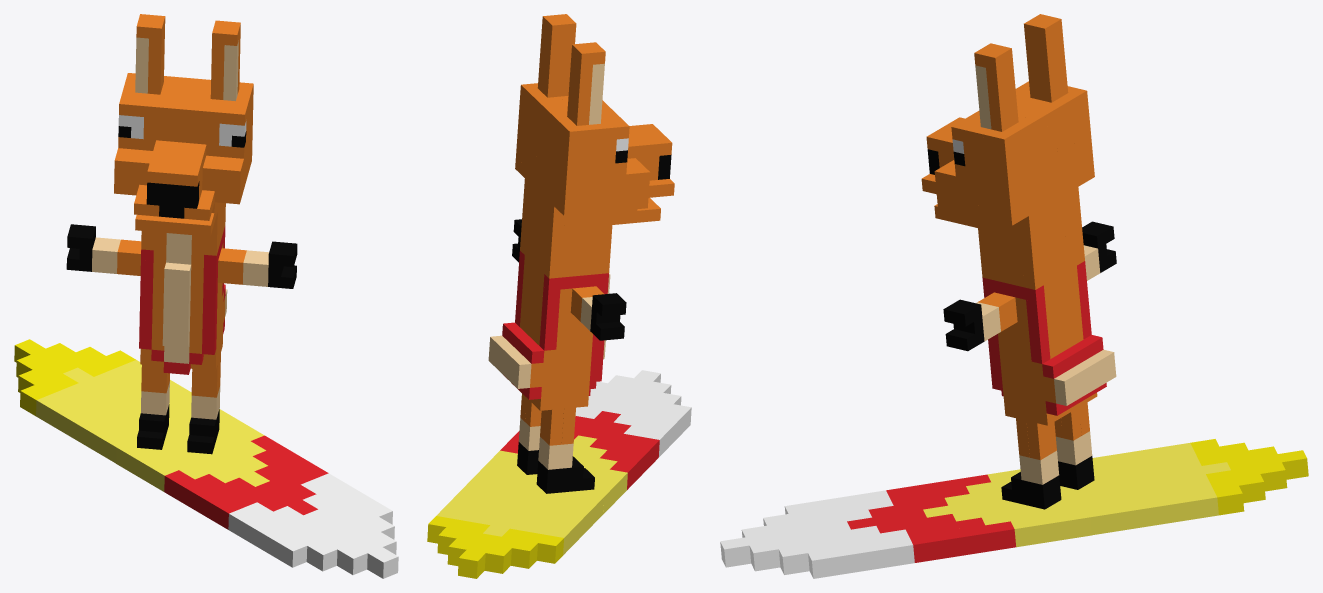
Rendered from Lama_Surfing.fbx.
3 views of the same model, side by side, from view 1: azimuth 30°, elevation 25°; view 2: azimuth 150°, elevation 25°; view 3: azimuth 270°, elevation 25° (orthographic). The views are drawn at different scales.
Parts seen in each view (by area): view 1: Box558, YELLOW_DARKER001; view 2: Box558, YELLOW_DARKER001; view 3: Box558, YELLOW_DARKER001.
Part boxes in pixels (x1,y1,x2,y2): Box558: (66,14,297,454); YELLOW_DARKER001: (14,339,398,578); Box558: (488,14,674,493); YELLOW_DARKER001: (427,370,691,578); Box558: (921,14,1116,509); YELLOW_DARKER001: (720,439,1308,578).
Bounding box in the file's own units: 69.34 × 160 × 172.
Materials: 2 (2 with a texture image).
